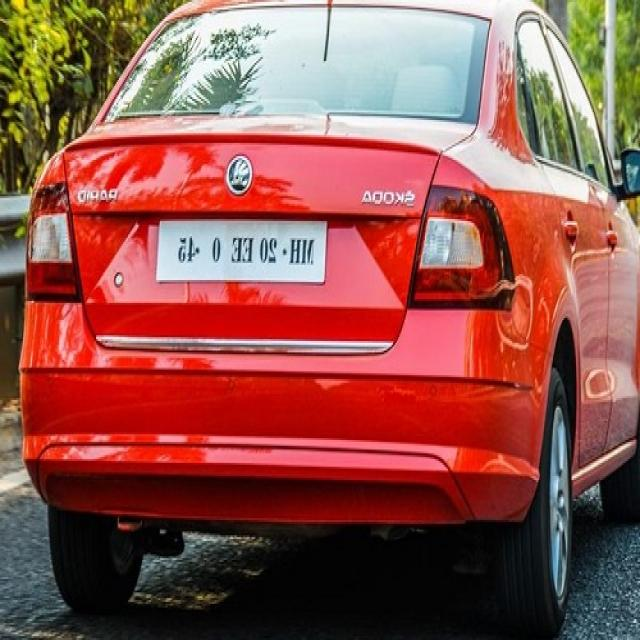license_plate: (152, 212, 330, 290)
